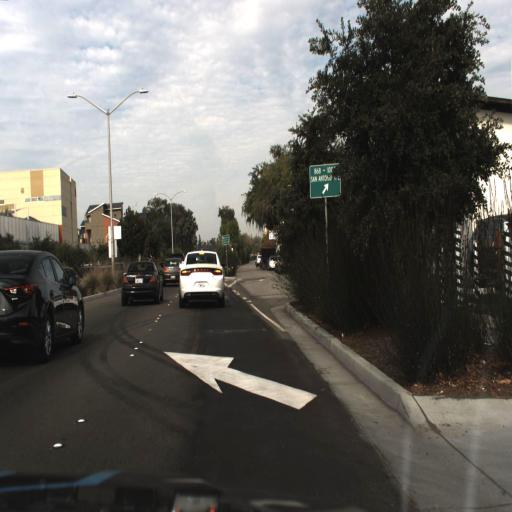car: (0, 250, 89, 358), (174, 248, 227, 306), (118, 256, 162, 310)
